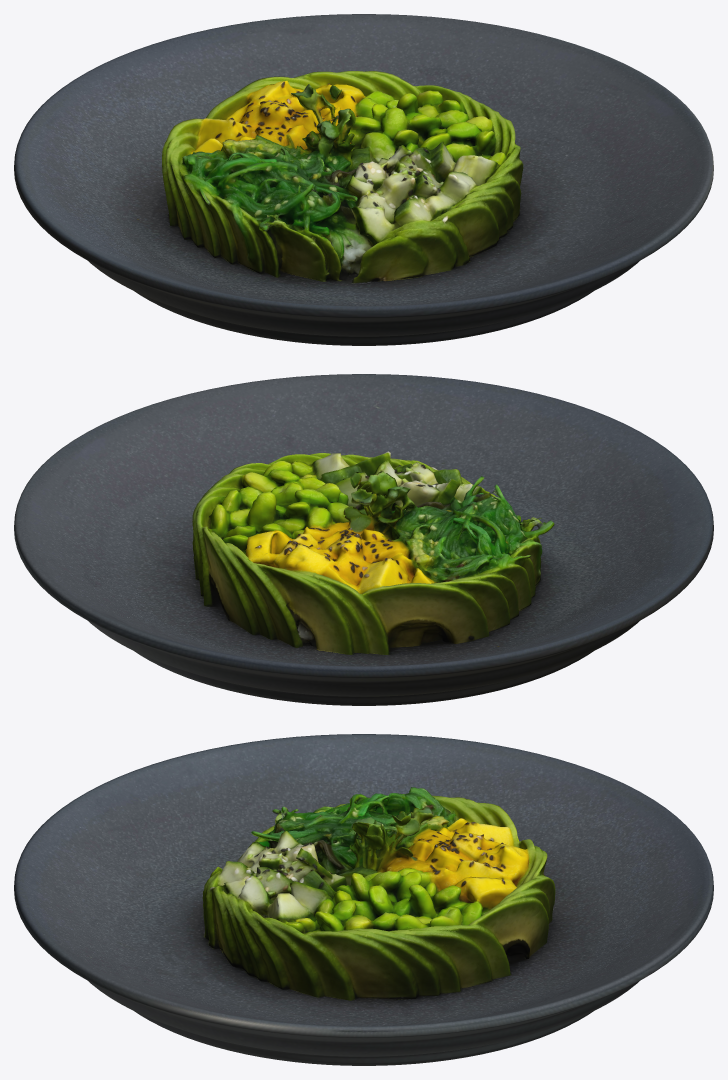
Rendered from Mama Mango.FBX.
3 renders of one model, top to bottom at view 1: azimuth 30°, elevation 25°; view 2: azimuth 150°, elevation 25°; view 3: azimuth 270°, elevation 25°, orthographic.
Visible parts, largest first — view 1: Mama_Mango; view 2: Mama_Mango; view 3: Mama_Mango.
Part boxes in pixels (box(x1,y1,x2,y2)): Mama_Mango: box(14, 14, 713, 345); Mama_Mango: box(14, 374, 713, 705); Mama_Mango: box(14, 734, 713, 1065).
Size of the model in its own units: 25.64 by 5.41 by 25.64.
Materials: 1 (1 with a texture image).
